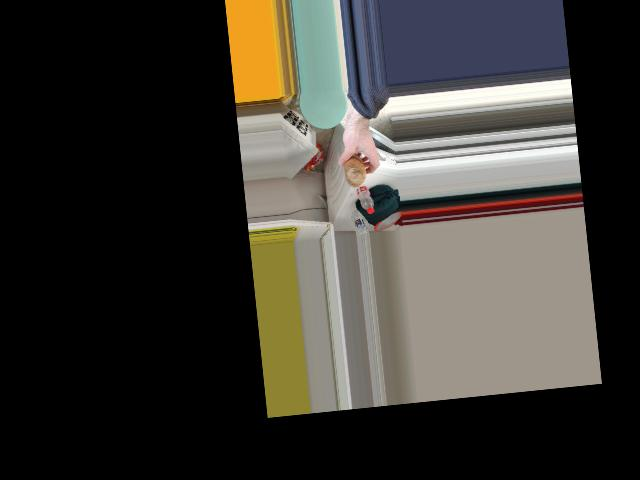sweet_potato: (339, 148, 372, 187)
